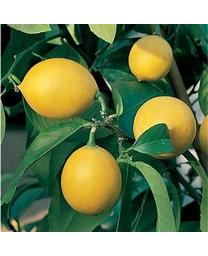lemon: (18, 58, 97, 117), (60, 146, 121, 214), (135, 97, 196, 158), (129, 35, 173, 80)
